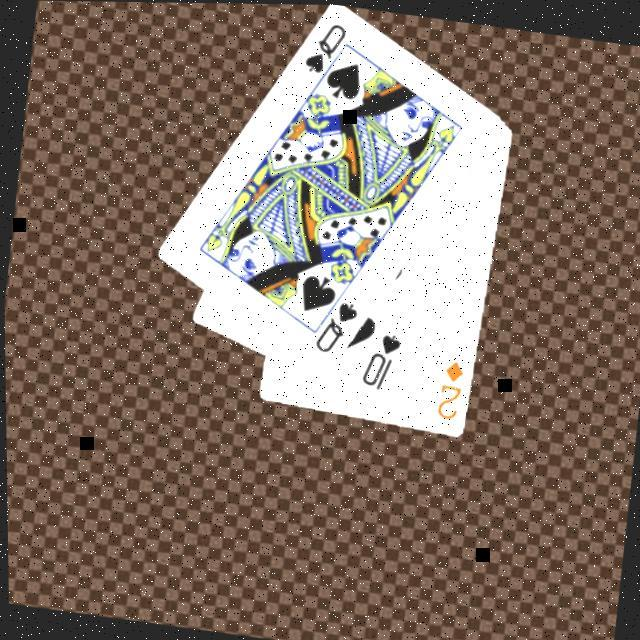10S: (355, 325, 404, 395)
2D: (430, 353, 467, 421)
QS: (308, 293, 361, 359), (298, 14, 351, 78)
